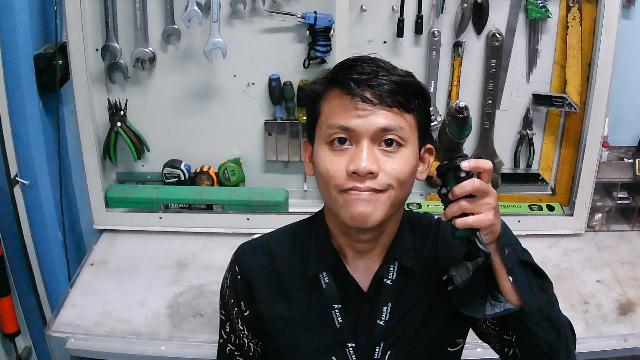gun_lem: (435, 100, 485, 241)
